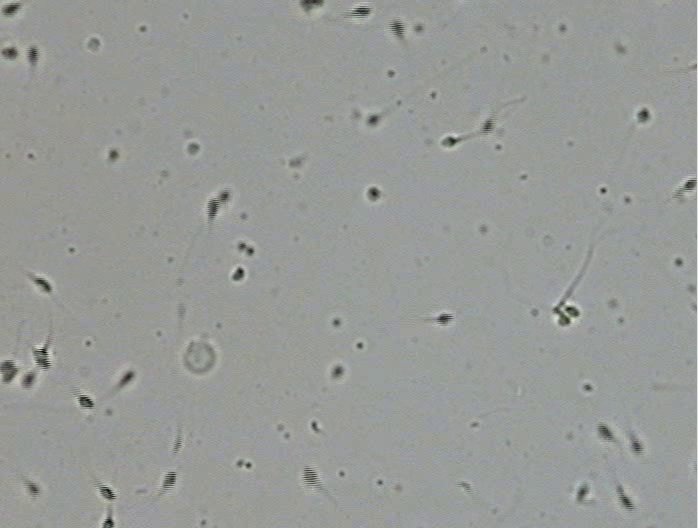Impurity: (183, 341, 216, 373), (86, 37, 101, 51)
S: (32, 347, 51, 371), (301, 465, 320, 488), (1, 359, 18, 383), (389, 19, 407, 38), (596, 423, 614, 441), (32, 276, 51, 293), (617, 491, 634, 510), (98, 485, 116, 501), (162, 471, 177, 490), (207, 197, 219, 220), (299, 1, 324, 12), (350, 5, 371, 18), (118, 371, 135, 387), (2, 3, 21, 17), (26, 45, 39, 65), (23, 481, 39, 497), (77, 394, 94, 409), (629, 437, 643, 454), (435, 313, 454, 325), (576, 484, 588, 502), (636, 108, 650, 123), (2, 47, 18, 60), (21, 372, 34, 388), (481, 118, 494, 134), (231, 267, 245, 281), (683, 177, 697, 191), (440, 136, 456, 148), (367, 187, 381, 200), (187, 143, 200, 155), (565, 306, 579, 317), (558, 314, 570, 326), (219, 190, 230, 203), (102, 517, 115, 528), (332, 365, 343, 378), (367, 114, 380, 125), (108, 150, 119, 160)
